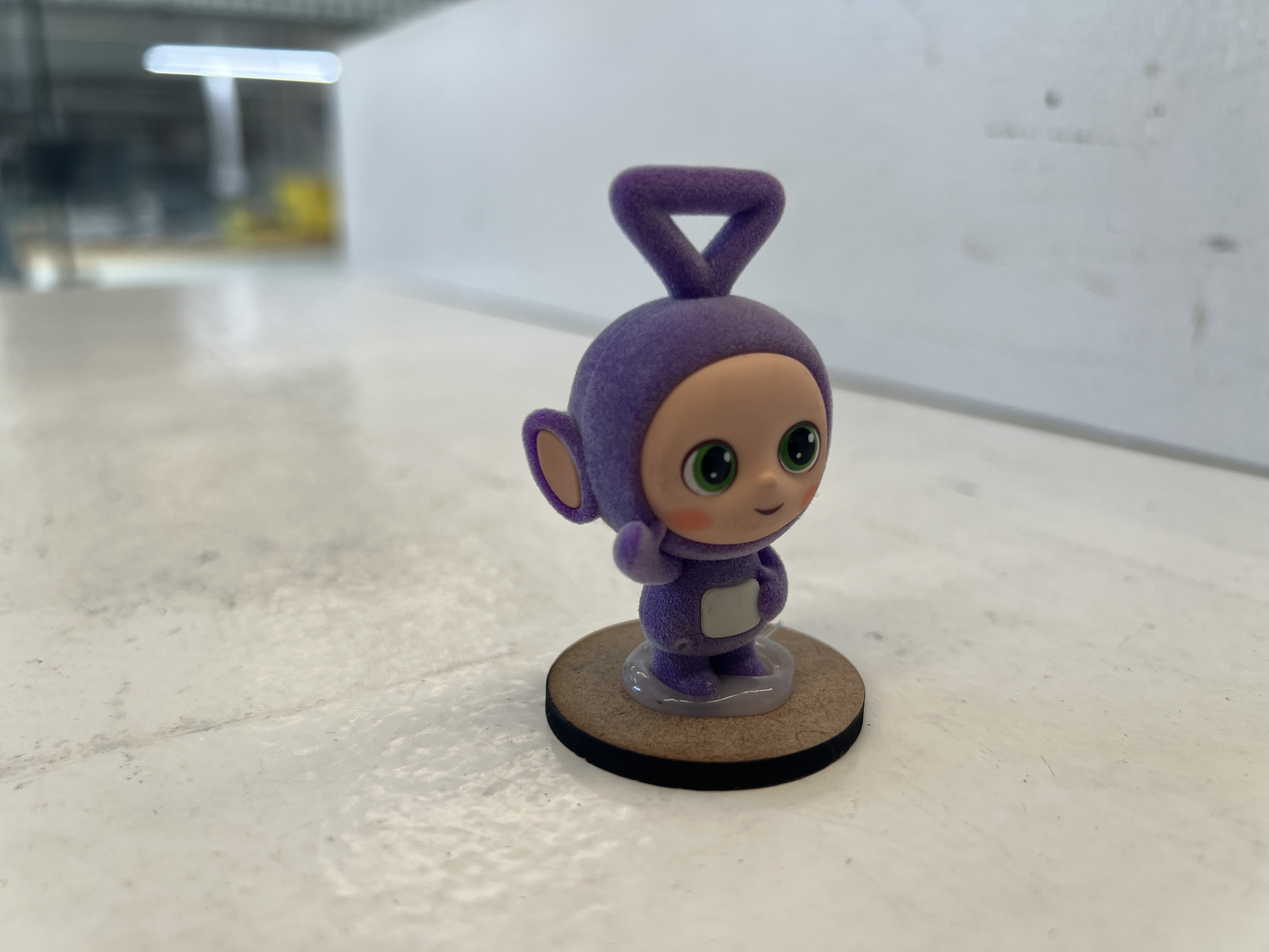teletubby: (524, 167, 831, 696)
